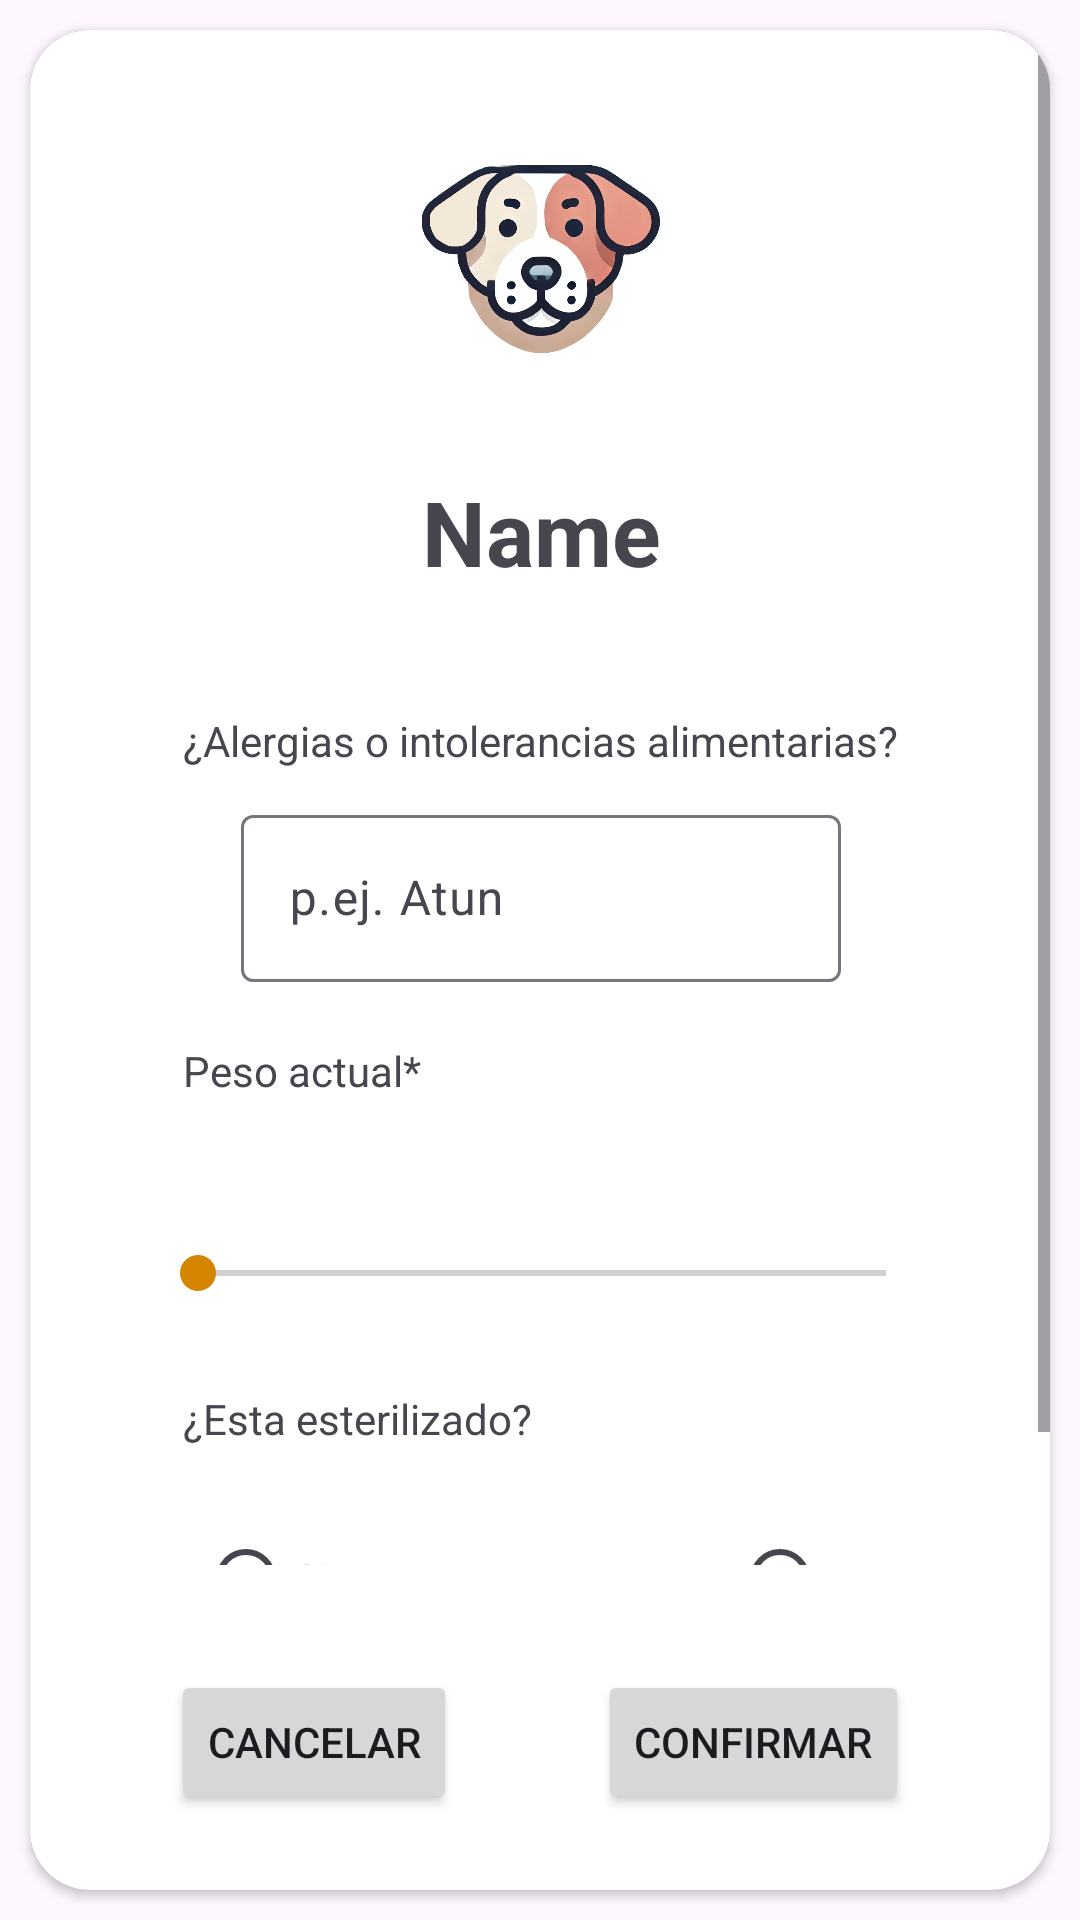

Named icons in this screenshot (1080 x 1920) and their bounding boxes, (x1, y1, x2, y2):
dog illustration: (422, 165, 660, 353)
